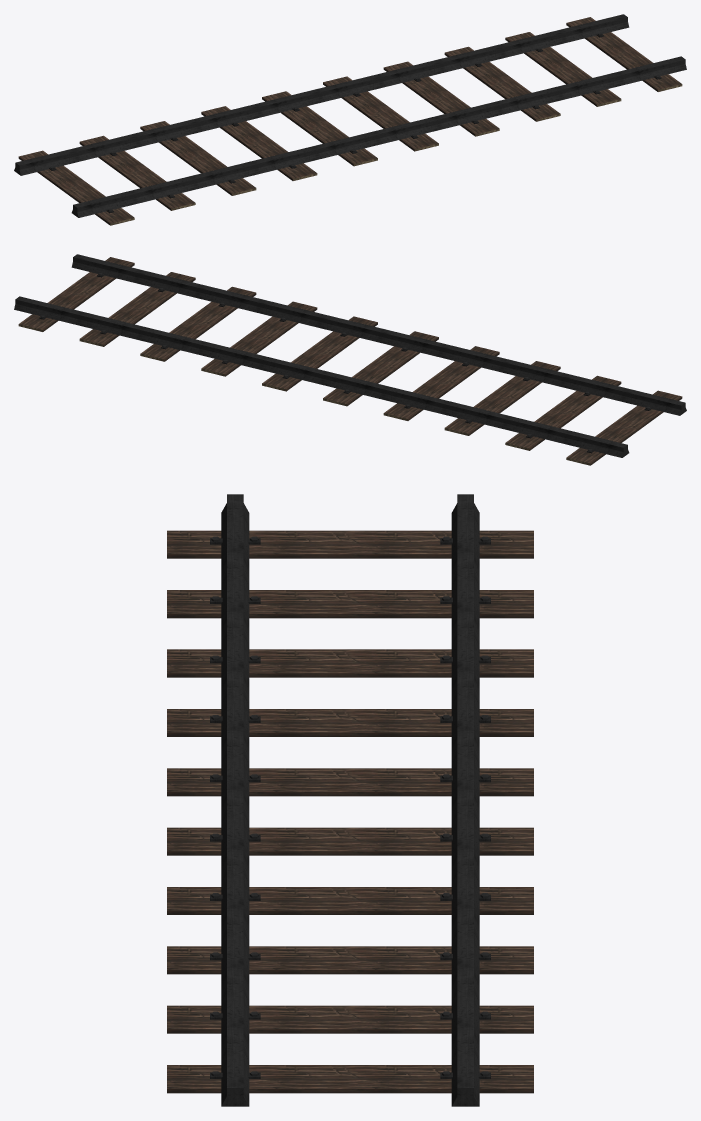
File: locomotive-01-rail-10x.fbx
The picture shows the model from 3 angles, top to bottom: view 1: azimuth 30°, elevation 25°; view 2: azimuth 150°, elevation 25°; view 3: azimuth 270°, elevation 25°; orthographic projection. The views are drawn at different scales.
Parts seen in each view (by area): view 1: Cube.006; view 2: Cube.006; view 3: Cube.006.
Boxes of the visible parts, left/top/right/bottom form: Cube.006: left=14, top=14, right=686, bottom=225; Cube.006: left=14, top=254, right=686, bottom=465; Cube.006: left=167, top=494, right=533, bottom=1106.
Bounding box in the file's own units: 10 × 0.1799 × 2.61.
